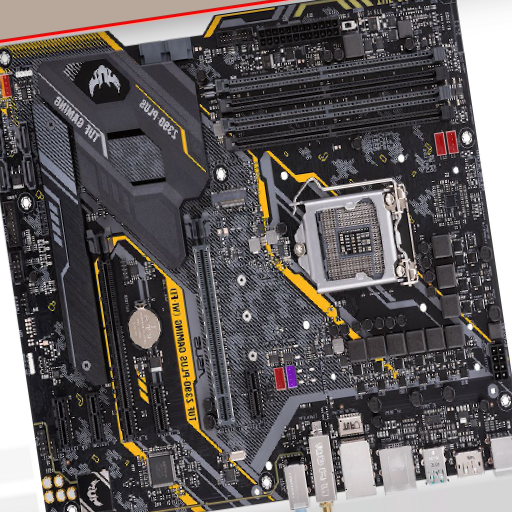CPU: (295, 189, 415, 294)
GPU: (84, 227, 140, 444), (183, 210, 235, 427)
MOTHERBOARD: (4, 2, 506, 512)
RAM: (214, 47, 457, 155)
SSD: (209, 188, 251, 211)
